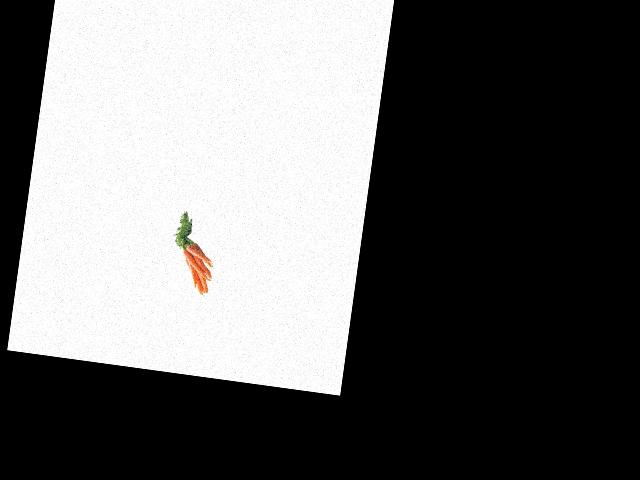carrot: (187, 241, 224, 262)
